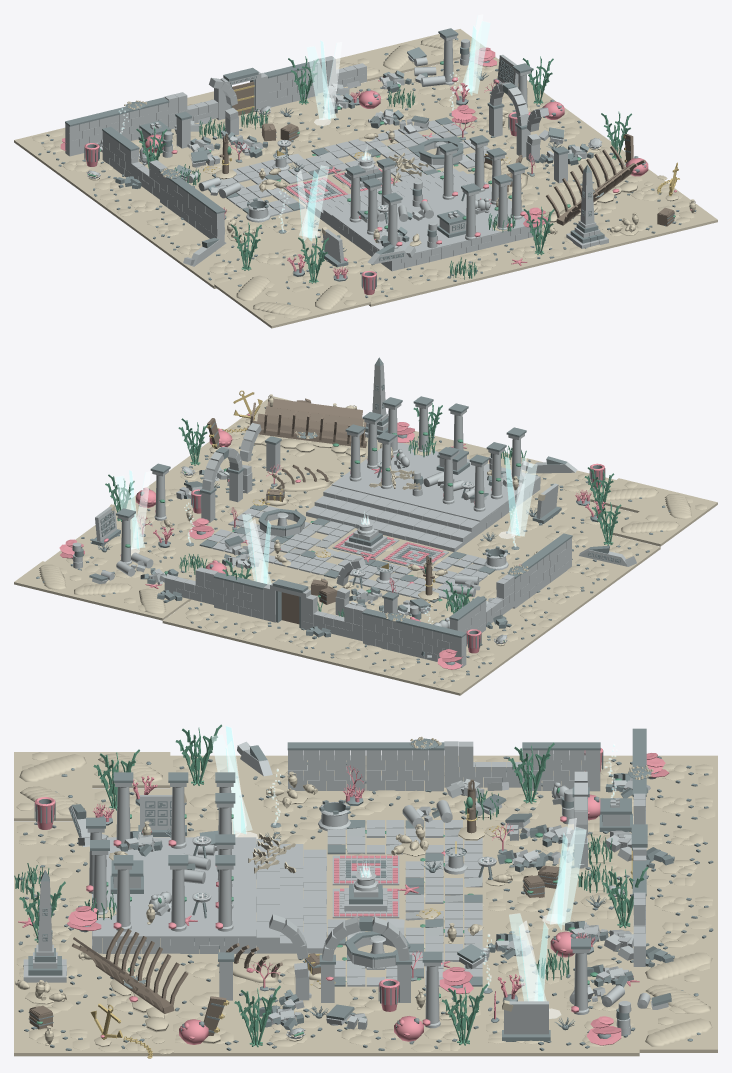
File: sunken-city-and-underwater-ruins-drowned-d2ac3298-starter-scene__37000.glb
The picture shows the model from 3 angles, top to bottom: view 1: azimuth 30°, elevation 25°; view 2: azimuth 150°, elevation 25°; view 3: azimuth 270°, elevation 25°; orthographic projection. The views are drawn at different scales.
Parts seen in each view (by area): view 1: 171-light-shaft-plate/0, 177-shipwreck-hull-section/0, 008-sand-drift-module/0, 017-sand-drift-module/0, 007-sand-drift-module/0, 172-arch-section-intact/0, 133-light-shaft-plate/0, 086-wall-run-collapsed/0, 035-silted-floor-module/0, 003-silted-floor-module/0, 044-silted-floor-module/0, 034-temple-platform-module/1 (+86 smaller); view 2: 177-shipwreck-hull-section/0, 032-stone-step-module/1, 050-stone-step-module/1, 041-stone-step-module/1, 133-light-shaft-plate/0, 007-sand-drift-module/0, 172-arch-section-intact/0, 072-sand-drift-module/0, 085-wall-run-intact/0, 082-wall-run-intact/0, 008-sand-drift-module/0, 018-silted-floor-module/0 (+71 smaller); view 3: 089-wall-run-intact/0, 177-shipwreck-hull-section/0, 051-temple-platform-module/1, 090-wall-run-intact/0, 072-sand-drift-module/0, 088-wall-run-collapsed/0, 050-stone-step-module/1, 041-stone-step-module/1, 008-sand-drift-module/0, 080-silted-floor-module/0, 172-arch-section-intact/0, 052-temple-platform-module/1 (+121 smaller).
Boxes of the visible parts, x1,y1,x2,y2 form: 171-light-shaft-plate/0: [307, 40, 341, 125]; 177-shipwreck-hull-section/0: [546, 145, 645, 225]; 008-sand-drift-module/0: [243, 293, 321, 328]; 017-sand-drift-module/0: [293, 281, 370, 316]; 007-sand-drift-module/0: [214, 272, 292, 307]; 172-arch-section-intact/0: [489, 82, 530, 157]; 133-light-shaft-plate/0: [296, 165, 329, 241]; 086-wall-run-collapsed/0: [313, 56, 366, 98]; 035-silted-floor-module/0: [392, 259, 469, 294]; 003-silted-floor-module/0: [100, 191, 173, 225]; 044-silted-floor-module/0: [442, 247, 519, 282]; 034-temple-platform-module/1: [363, 225, 441, 271]; 177-shipwreck-hull-section/0: [247, 398, 366, 447]; 032-stone-step-module/1: [405, 506, 483, 551]; 050-stone-step-module/1: [306, 482, 383, 527]; 041-stone-step-module/1: [355, 494, 433, 539]; 133-light-shaft-plate/0: [499, 457, 537, 538]; 007-sand-drift-module/0: [612, 511, 689, 546]; 172-arch-section-intact/0: [201, 447, 242, 522]; 072-sand-drift-module/0: [14, 561, 91, 596]; 085-wall-run-intact/0: [214, 578, 263, 619]; 082-wall-run-intact/0: [363, 614, 412, 655]; 008-sand-drift-module/0: [640, 490, 717, 525]; 018-silted-floor-module/0: [311, 636, 386, 671]; 089-wall-run-intact/0: [366, 750, 443, 791]; 177-shipwreck-hull-section/0: [72, 927, 188, 1013]; 051-temple-platform-module/1: [170, 903, 248, 953]; 090-wall-run-intact/0: [288, 750, 365, 791]; 072-sand-drift-module/0: [639, 1016, 717, 1052]; 088-wall-run-collapsed/0: [444, 741, 522, 798]; 050-stone-step-module/1: [248, 903, 326, 953]; 041-stone-step-module/1: [248, 870, 326, 920]; 008-sand-drift-module/0: [14, 752, 92, 785]; 080-silted-floor-module/0: [14, 1020, 92, 1056]; 172-arch-section-intact/0: [321, 916, 410, 1002]; 052-temple-platform-module/1: [92, 903, 170, 953].
Size of the model in its own units: 37.26 by 6.05 by 36.
